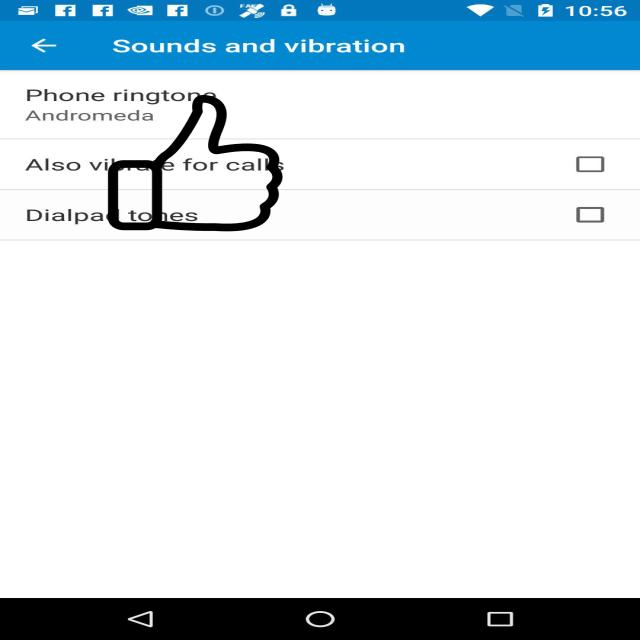privacy zuckering: (106, 95, 285, 231)
